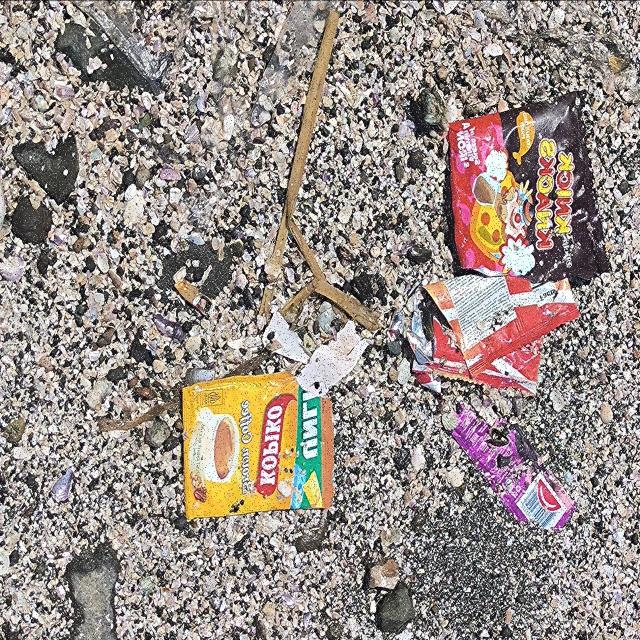plastic_waste: (446, 88, 614, 284), (182, 371, 337, 521), (407, 272, 583, 399), (453, 402, 577, 533)
